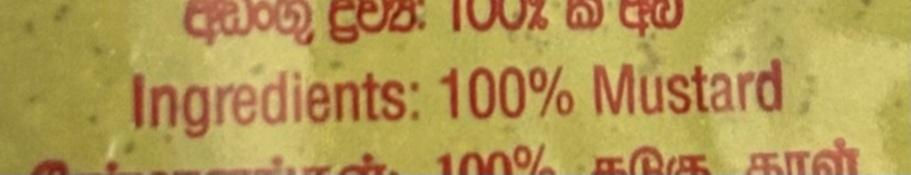ingredients: (114, 44, 864, 141)
